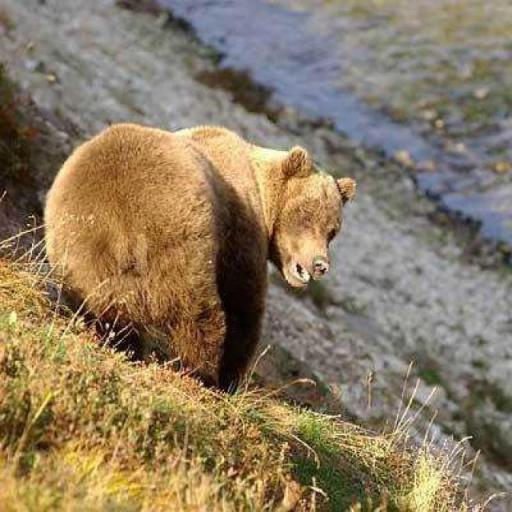Bear: (41, 121, 356, 395)
